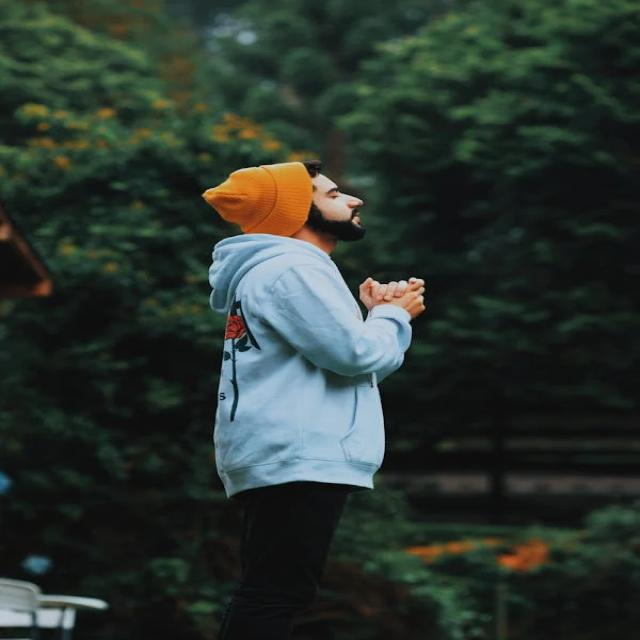Real human 2: (171, 147, 456, 640)
